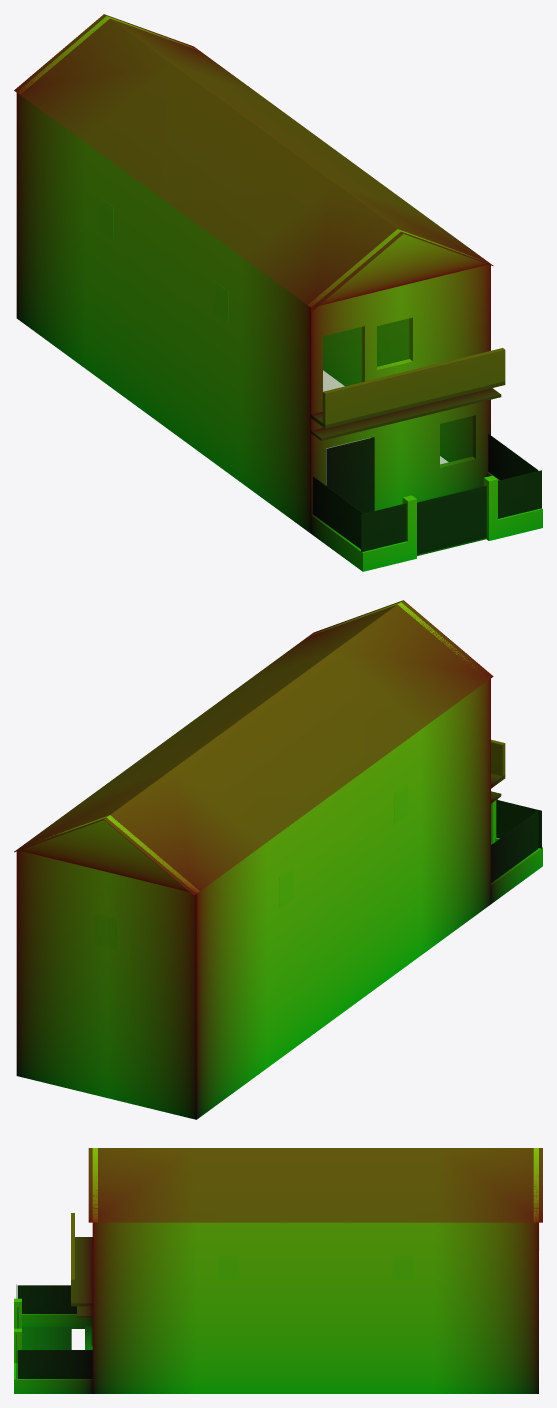
The model's file is biet_thu_6x20.mid.glb.
3 views of the same model, one above another, from view 1: azimuth 30°, elevation 25°; view 2: azimuth 150°, elevation 25°; view 3: azimuth 270°, elevation 25° (orthographic). The views are drawn at different scales.
Parts seen in each view (by area): view 1: biet_thu_6x20; view 2: biet_thu_6x20; view 3: biet_thu_6x20.
Part boxes in pixels (box(x1,y1,x2,y2)): biet_thu_6x20: box(14, 14, 542, 571); biet_thu_6x20: box(14, 600, 542, 1119); biet_thu_6x20: box(14, 1148, 542, 1393).
Size of what is drawn, in the model's own units: 6.02 by 8.93 by 20.15.
